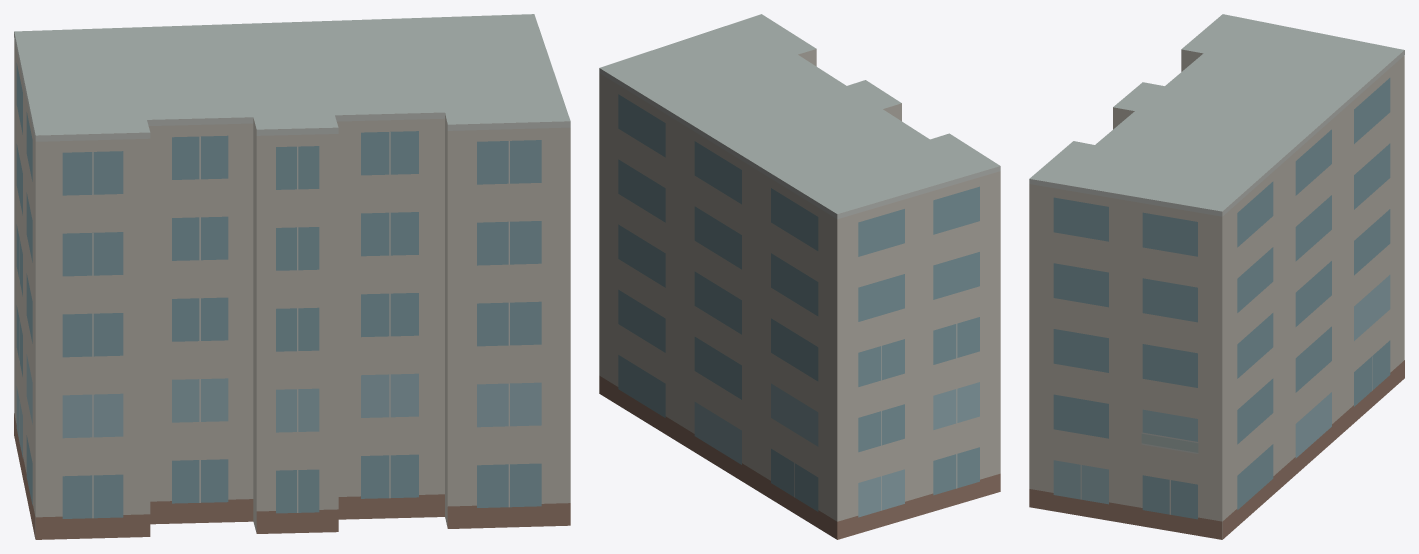
The model's file is survey-upis-32759360.glb.
3 views of the same model, side by side, from view 1: azimuth 30°, elevation 25°; view 2: azimuth 150°, elevation 25°; view 3: azimuth 270°, elevation 25° (orthographic). The views are drawn at different scales.
Parts seen in each view (by area): view 1: survey-upis-32759360.tmp; view 2: survey-upis-32759360.tmp; view 3: survey-upis-32759360.tmp.
Boxes of the visible parts, x1,y1,x2,y2 form: survey-upis-32759360.tmp: (14,14,570,539); survey-upis-32759360.tmp: (599,14,1000,539); survey-upis-32759360.tmp: (1029,14,1404,539).
Size of the model in its own units: 20.31 by 15.73 by 16.31.
